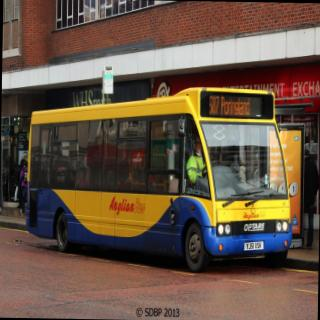bus: (24, 82, 295, 266)
